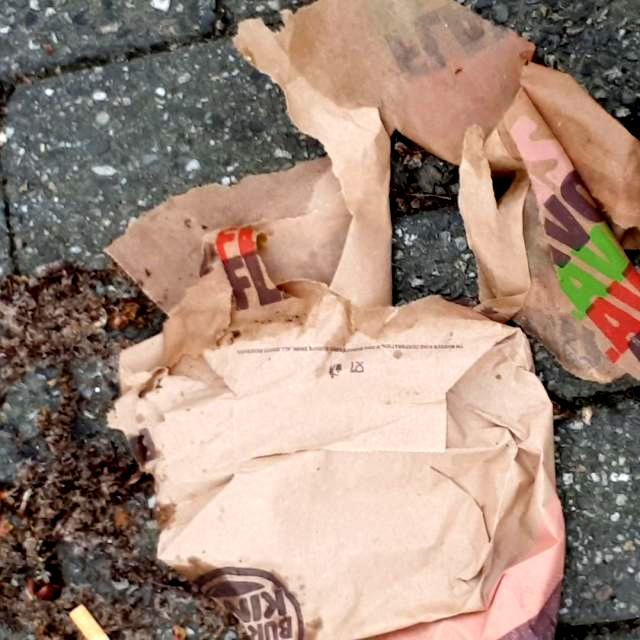Paper: (94, 0, 640, 640)
